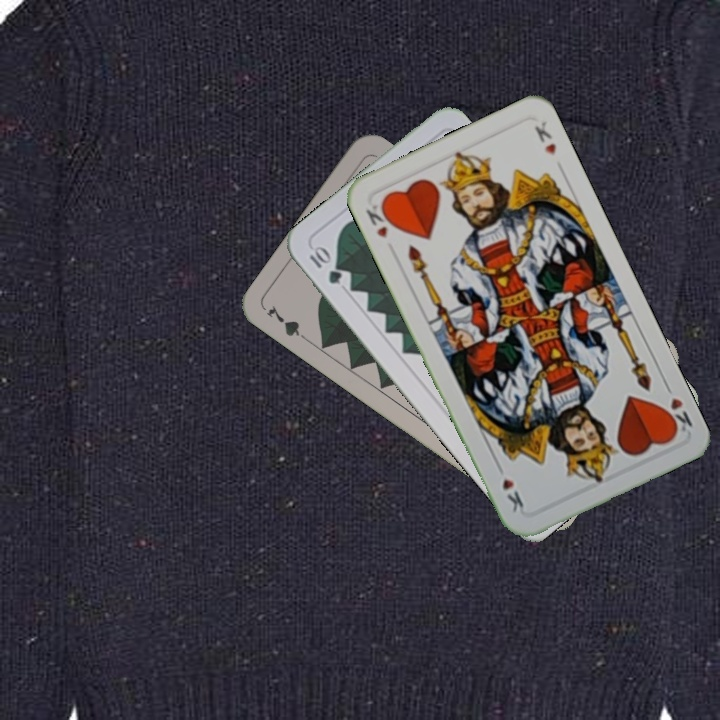G10: (305, 241, 345, 287)
G7: (262, 302, 313, 346)
HK: (659, 378, 696, 437), (362, 197, 397, 241)
